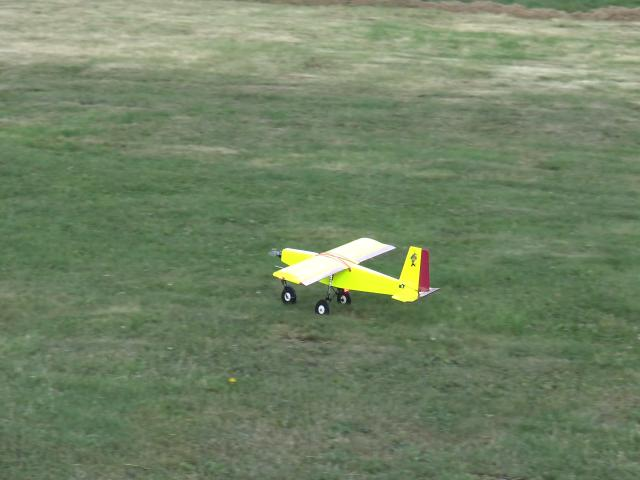plane: (274, 234, 440, 316)
